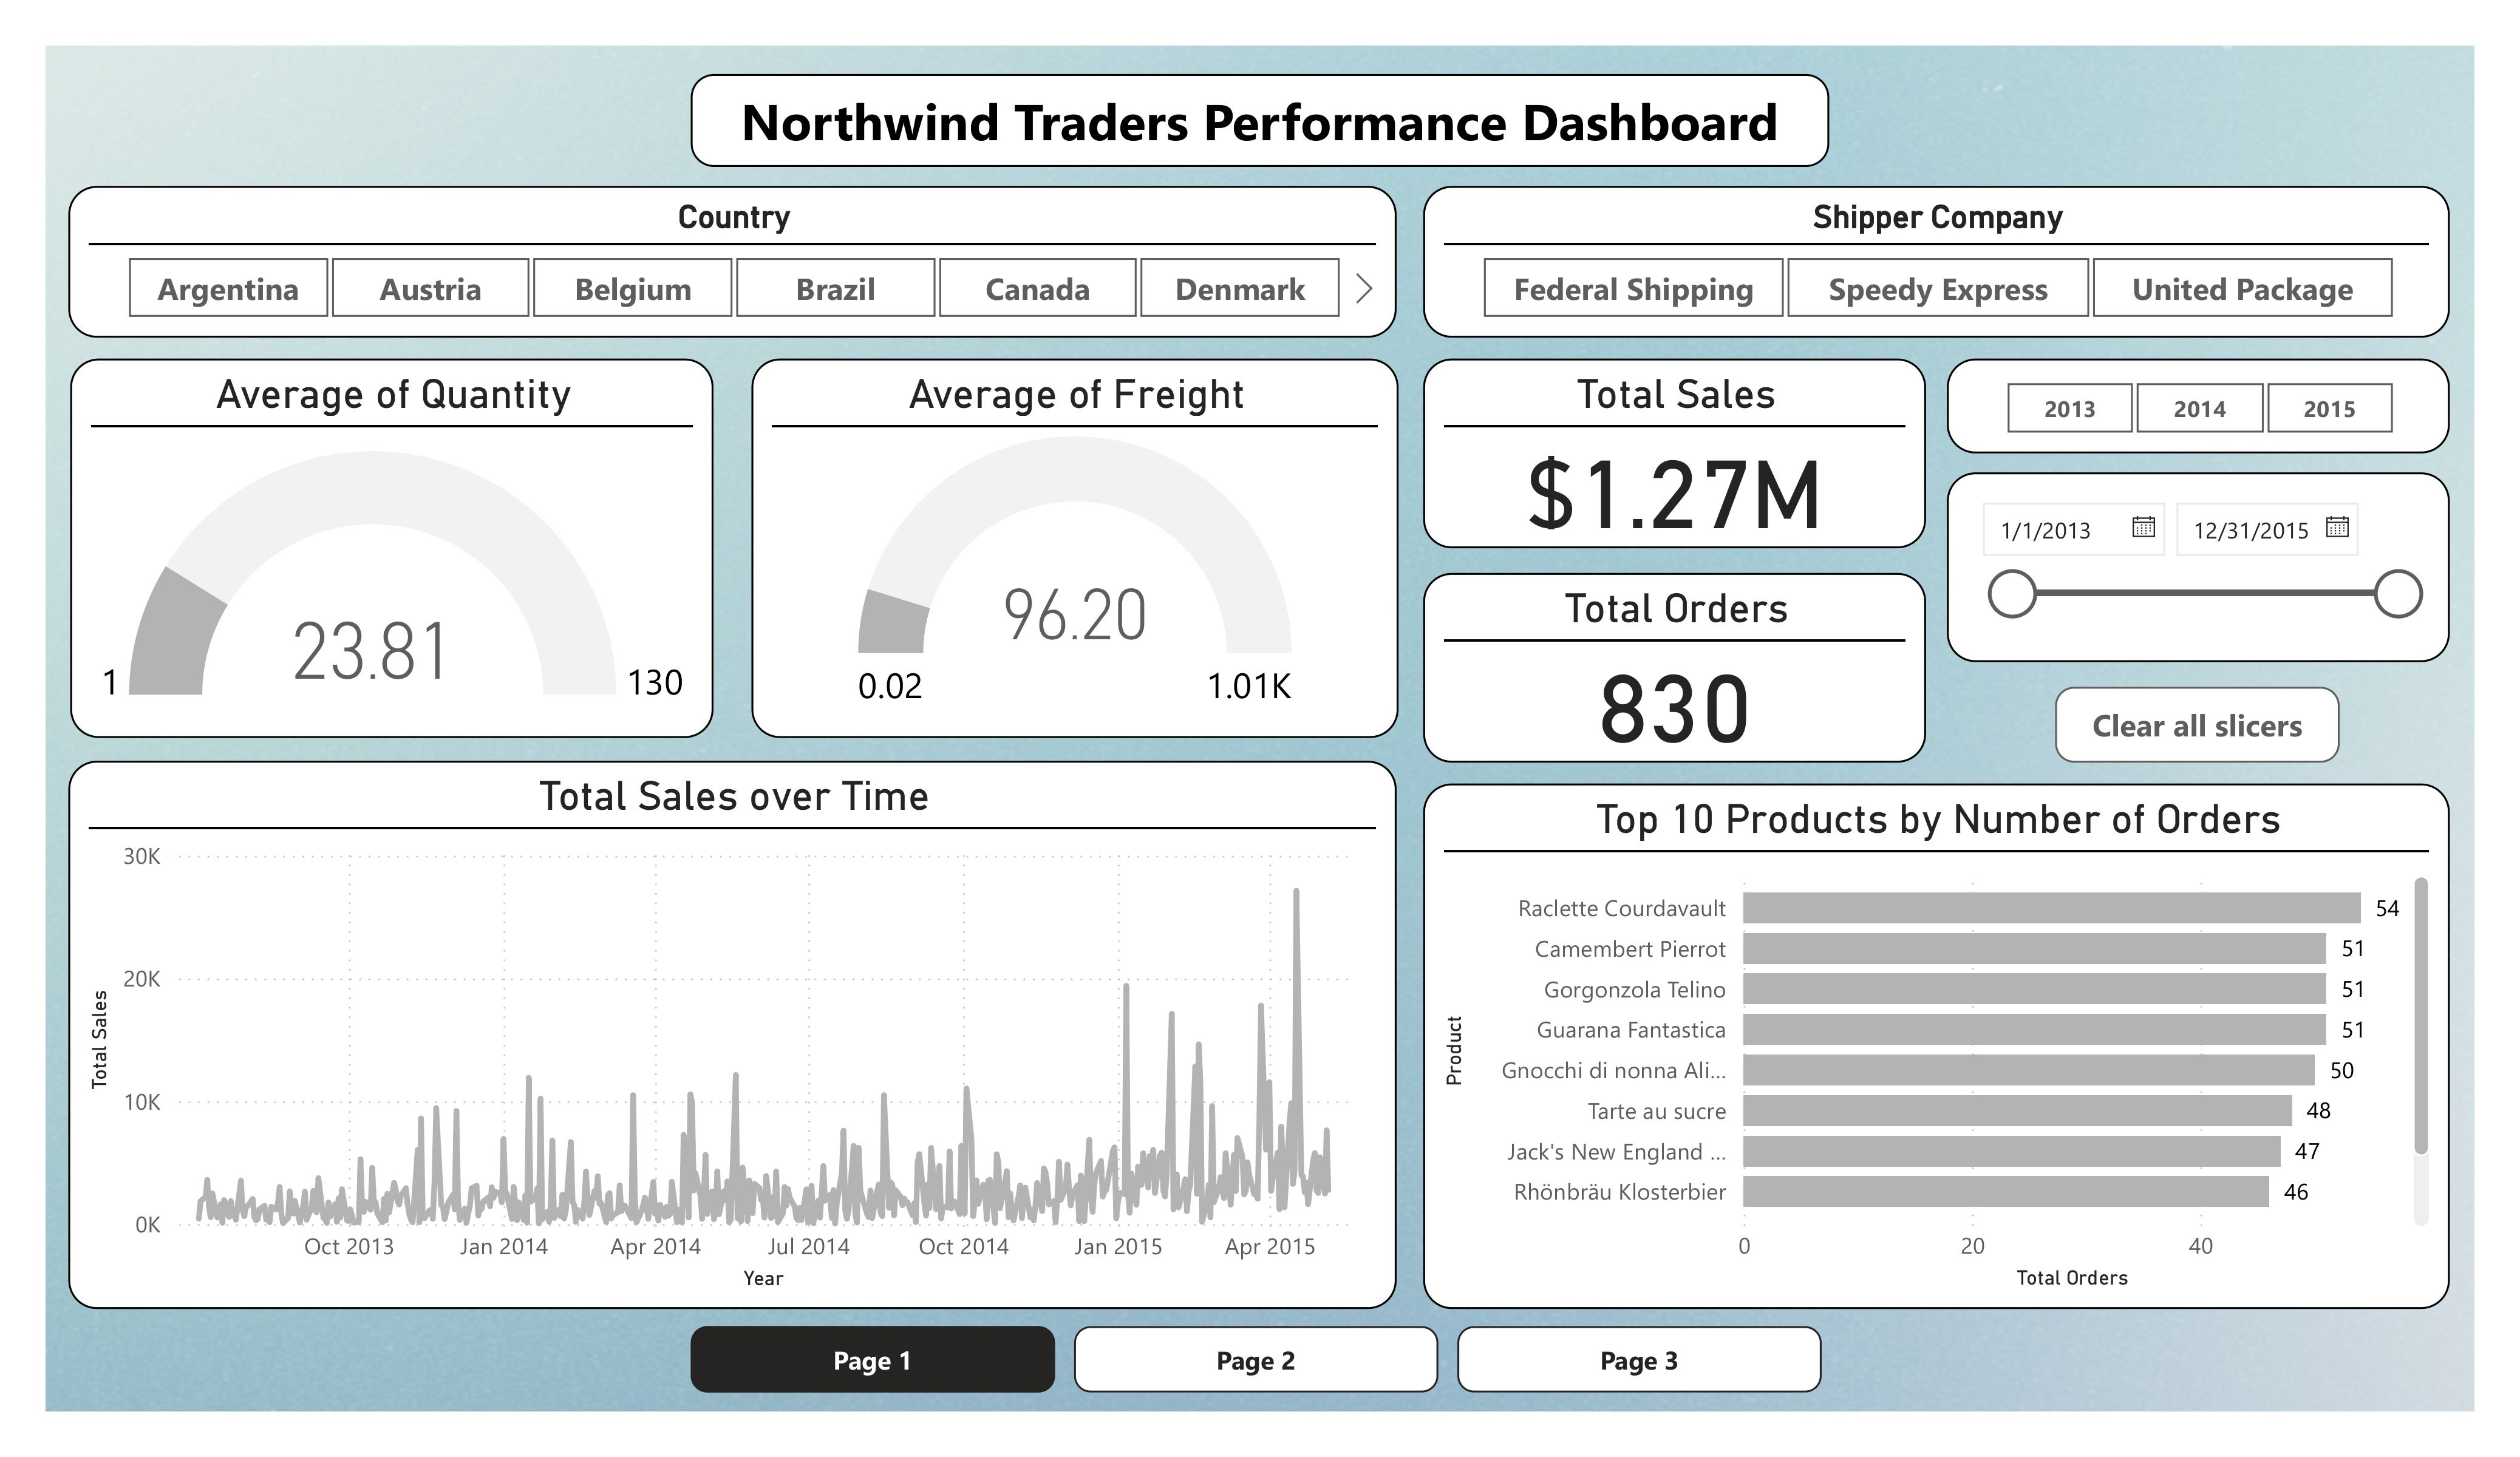

What the dashboard file says about the page in this screenshot:
{"tool":"powerbi","page":{"name":"Page 1","canvas":[1280,720],"ordinal":0},"visuals":[{"type":"card","title":"Total Orders","fields":{"Values":["Count(orders.orderID)"]},"box":[725.5,278,265.1,100],"z":0},{"type":"card","title":"Total Orders","fields":{"Values":["Count(orders.orderID)"]},"box":[240.1,400.5,200.3,100.1],"z":1000},{"type":"card","title":"Total Sales","fields":{"Values":["Sum(orders.LineTotal)"]},"box":[725.5,165.3,265.1,100],"z":2000},{"type":"gauge","title":"Average of Quantity","fields":{"Y":["Avg(orders.quantity)"],"MinValue":["Min(orders.quantity)"],"MaxValue":["Max(orders.quantity)"]},"box":[12.8,165.3,339.2,199.6],"z":3000},{"type":"lineChart","title":"Total Sales over Time","fields":{"Category":["DateDim.Date.Variation.Date Hierarchy.Year","DateDim.Date.Variation.Date Hierarchy.Quarter","DateDim.Date.Variation.Date Hierarchy.Month","DateDim.Date.Variation.Date Hierarchy.Day"],"Y":["Sum(orders.totalSales)"]},"box":[12.3,377.4,699.8,288.2],"z":4000},{"type":"clusteredBarChart","title":"Top 10 Products by Number of Orders","fields":{"Category":["products.productName"],"Y":["CountNonNull(orders.orderID)"]},"box":[725.5,389.1,541.6,276.5],"z":5000},{"type":"shape","box":[340.3,15.1,599.7,49.4],"z":6000},{"type":"pageNavigator","box":[340.3,675.1,596.9,35.7],"z":7000},{"type":"slicer","title":"Country","fields":{"Values":["customers.country"]},"box":[12.3,74.1,699.8,80],"z":8000},{"type":"slicer","title":"Shipper Company","fields":{"Values":["shippers.companyName"]},"box":[725.9,74.1,540.7,80],"z":9000},{"type":"slicer","title":"Date","fields":{"Values":["DateDim.Date"]},"box":[1002,225.2,265.1,99.8],"z":10000},{"type":"slicer","fields":{"Values":["DateDim.Date.Variation.Date Hierarchy.Year"]},"box":[1002,165.3,265.1,50],"z":11000},{"type":"gauge","title":"Average of Freight","fields":{"Y":["Avg(orders.freight)"],"MinValue":["Min(orders.freight)"],"MaxValue":["Max(orders.freight)"]},"box":[372,165.3,340.7,199.6],"z":12000},{"type":"actionButton","box":[1059.1,337.8,149.7,40],"z":13000}]}

Visuals, with their boxes on the page's 1280x720 design canvas (x1, y1, x2, y2). These are canvas units, not pixel positions in the 2520x1457 screenshot, which may show the page scaled, cropped or inside an application window:
"Total Orders" card: <box>726,278,991,378</box>
"Total Orders" card: <box>240,400,440,501</box>
"Total Sales" card: <box>726,165,991,265</box>
"Average of Quantity" gauge: <box>13,165,352,365</box>
"Total Sales over Time" lineChart: <box>12,377,712,666</box>
"Top 10 Products by Number of Orders" clusteredBarChart: <box>726,389,1267,666</box>
shape: <box>340,15,940,64</box>
pageNavigator: <box>340,675,937,711</box>
"Country" slicer: <box>12,74,712,154</box>
"Shipper Company" slicer: <box>726,74,1267,154</box>
"Date" slicer: <box>1002,225,1267,325</box>
slicer - DateDim.Date.Variation.Date Hierarchy.Year: <box>1002,165,1267,215</box>
"Average of Freight" gauge: <box>372,165,713,365</box>
actionButton: <box>1059,338,1209,378</box>
